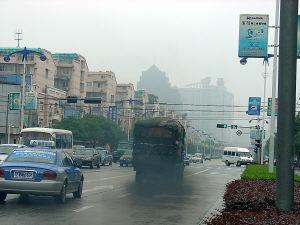smoke: (125, 155, 195, 210)
